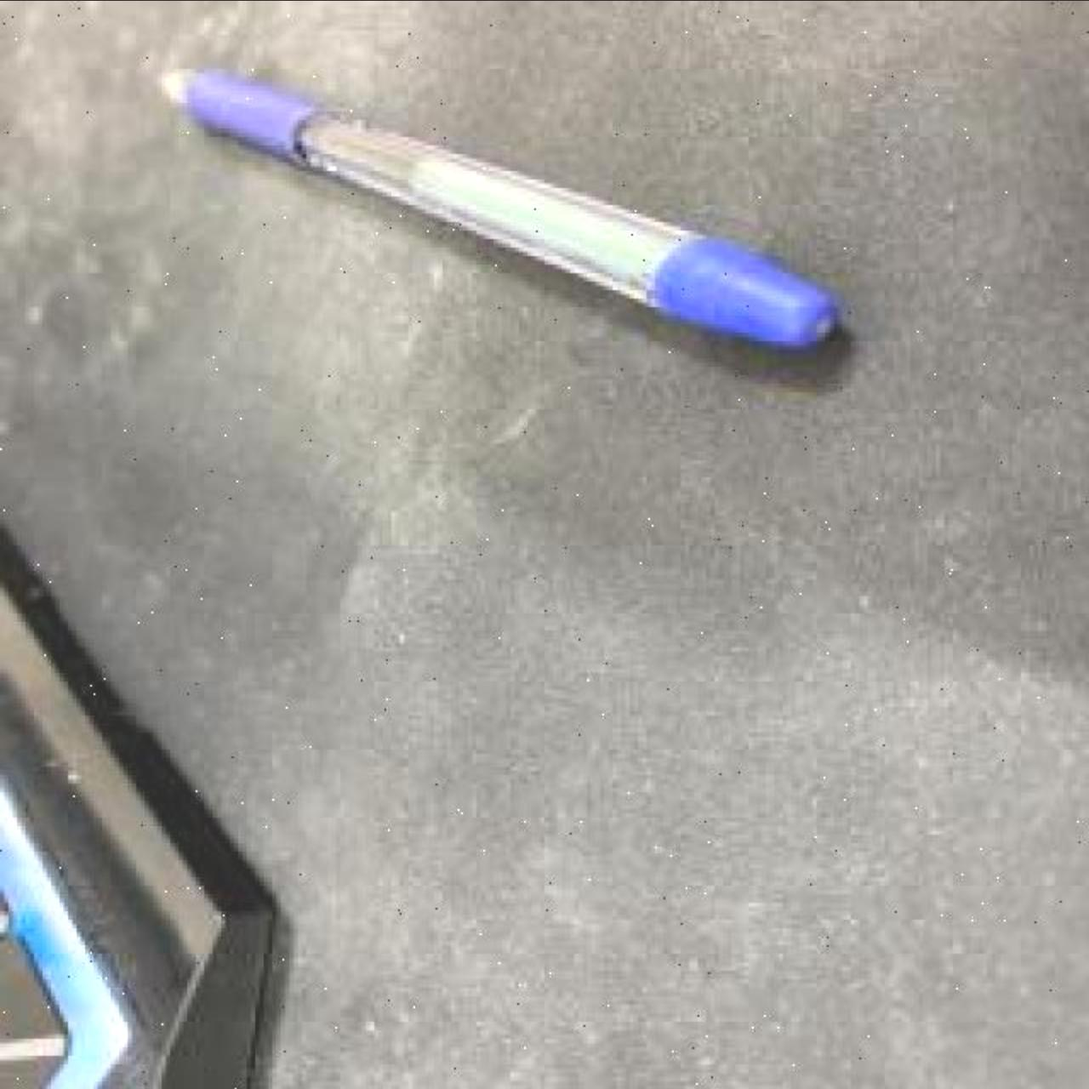pen: (153, 63, 851, 344)
